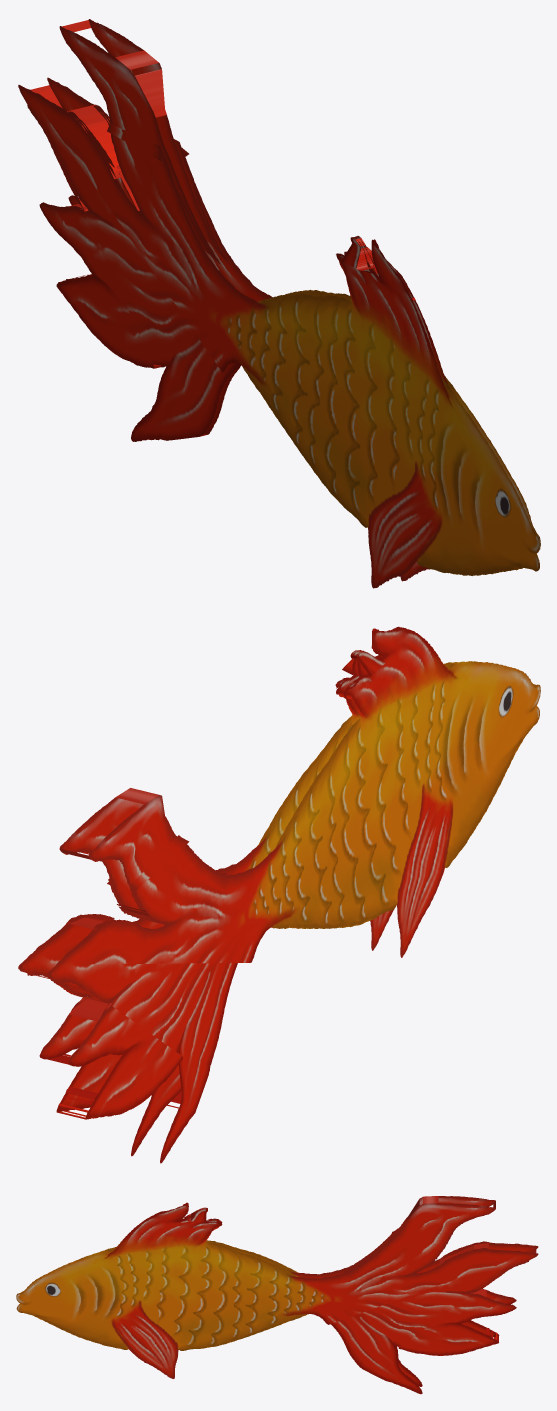
Rendered from fishorange.fbx.
3 renders of one model, top to bottom at view 1: azimuth 30°, elevation 25°; view 2: azimuth 150°, elevation 25°; view 3: azimuth 270°, elevation 25°, orthographic. The views are drawn at different scales.
Visible parts, largest first — view 1: 90a0e3b0-f9f4-41a3-aaf1-6892ed9f93bf; view 2: 90a0e3b0-f9f4-41a3-aaf1-6892ed9f93bf; view 3: 90a0e3b0-f9f4-41a3-aaf1-6892ed9f93bf.
Part boxes in pixels (<box>): 90a0e3b0-f9f4-41a3-aaf1-6892ed9f93bf: <box>18,19,540,588</box>; 90a0e3b0-f9f4-41a3-aaf1-6892ed9f93bf: <box>18,626,540,1163</box>; 90a0e3b0-f9f4-41a3-aaf1-6892ed9f93bf: <box>16,1196,538,1394</box>.
Size of the model in its own units: 0.046 by 0.5726 by 1.41.
1 material, 1 textured.
